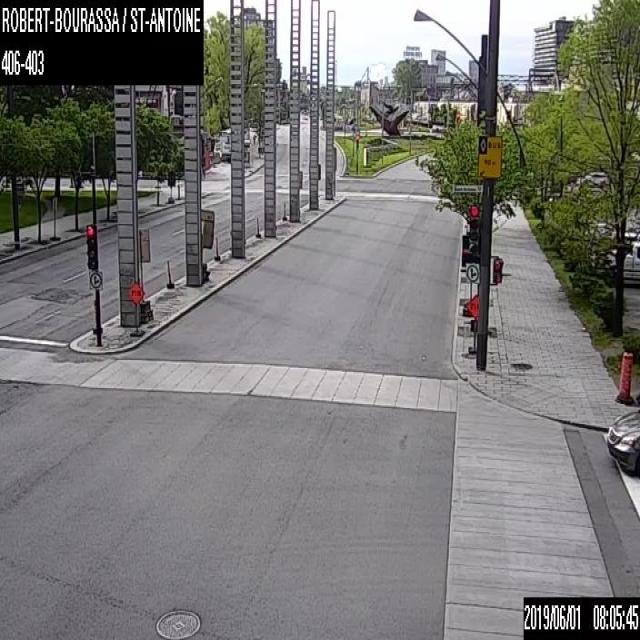construction: (137, 228, 153, 320), (126, 280, 144, 336), (201, 208, 214, 281), (616, 351, 634, 403), (466, 292, 479, 357)
vehicle: (606, 407, 639, 476), (605, 240, 639, 280), (586, 171, 606, 184)
